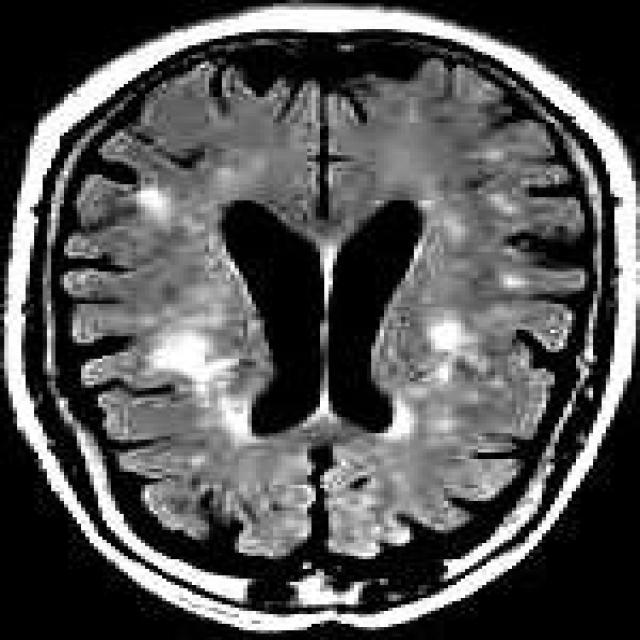notumor: (13, 32, 627, 627)
